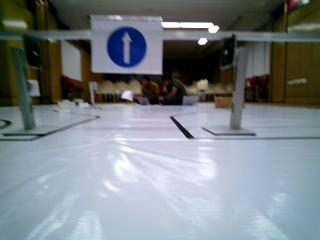straight: (92, 16, 162, 74)
